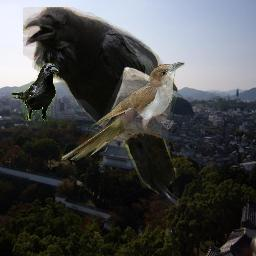Crow: (23, 7, 179, 197), (11, 63, 59, 121)
Cuckoo: (61, 62, 185, 161)
